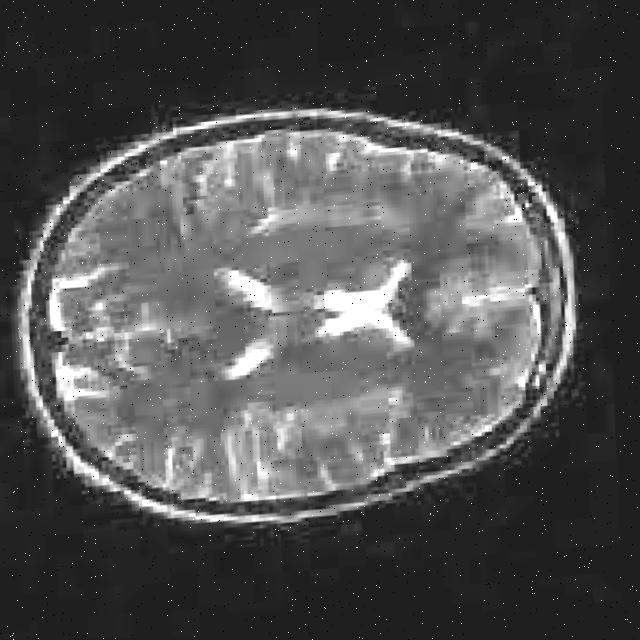NoTumor: (21, 100, 579, 527)
